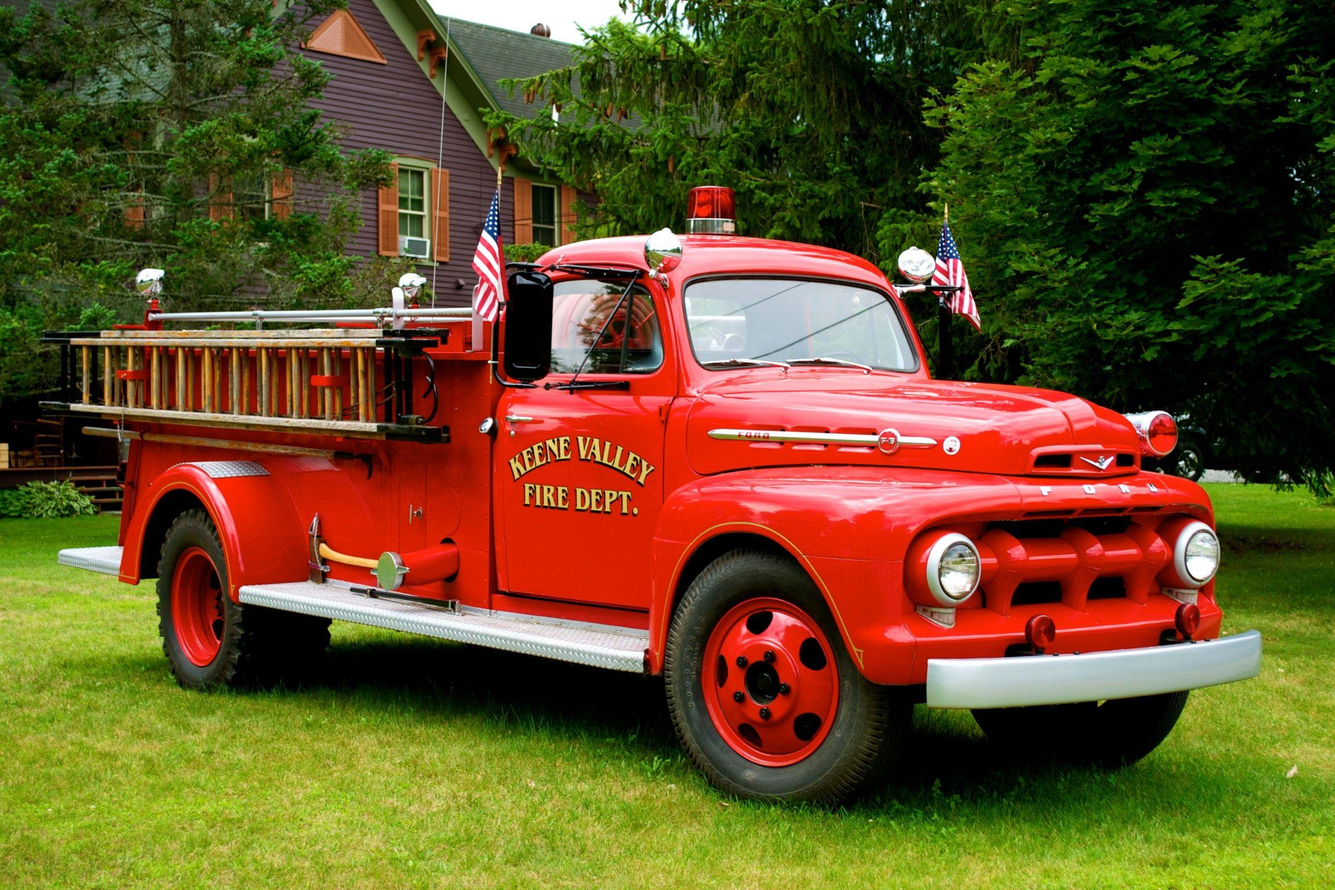Fire-engine: (39, 183, 1263, 808)
